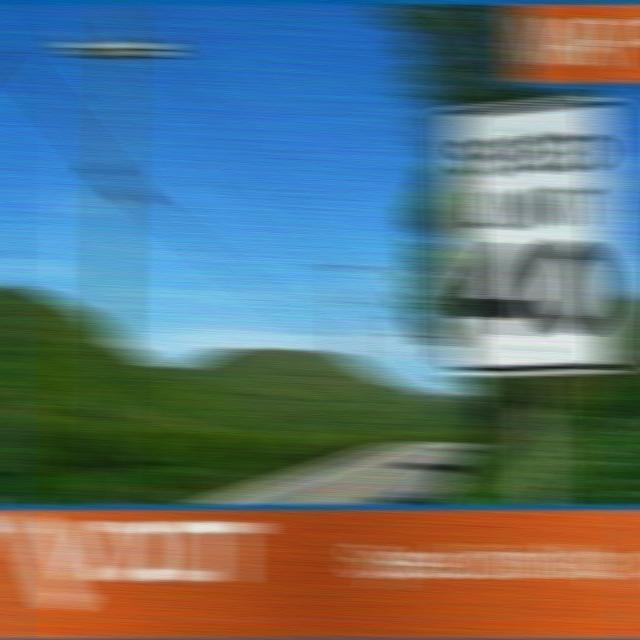speedLimit40: (441, 101, 627, 374)
